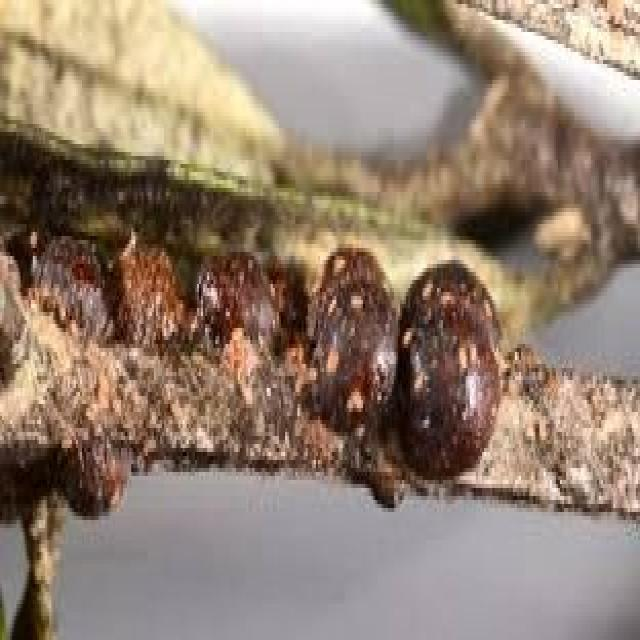Black Scale: (308, 244, 498, 480), (195, 248, 286, 352), (33, 232, 113, 340), (113, 228, 187, 344), (62, 436, 129, 516)
